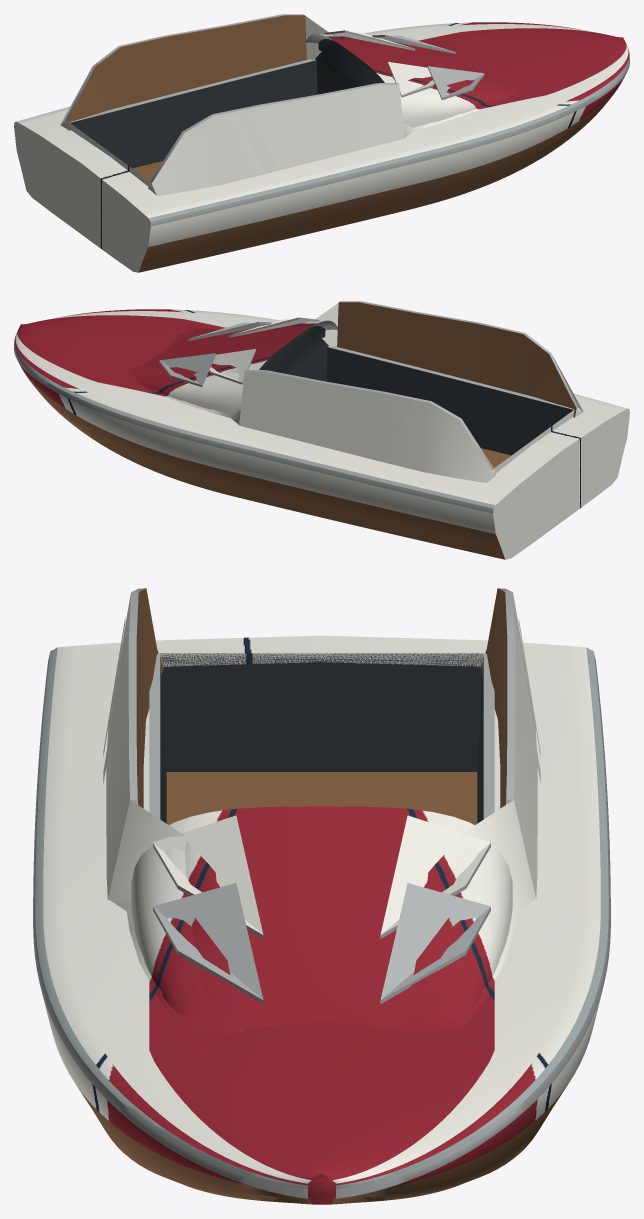
The model's file is Hull_21_SR_漆朱・白抜き.glb.
The picture shows the model from 3 angles, top to bottom: view 1: azimuth 30°, elevation 25°; view 2: azimuth 150°, elevation 25°; view 3: azimuth 270°, elevation 25°; orthographic projection. The views are drawn at different scales.
Parts seen in each view (by area): view 1: Hull_21_SR; view 2: Hull_21_SR; view 3: Hull_21_SR.
Boxes of the visible parts, left/top/right/bottom form: Hull_21_SR: left=14, top=14, right=629, bottom=272; Hull_21_SR: left=14, top=301, right=629, bottom=559; Hull_21_SR: left=33, top=588, right=610, bottom=1204.
Size of the model in its own units: 2.9 by 0.6856 by 1.34.
Materials: 4 (4 with a texture image).
